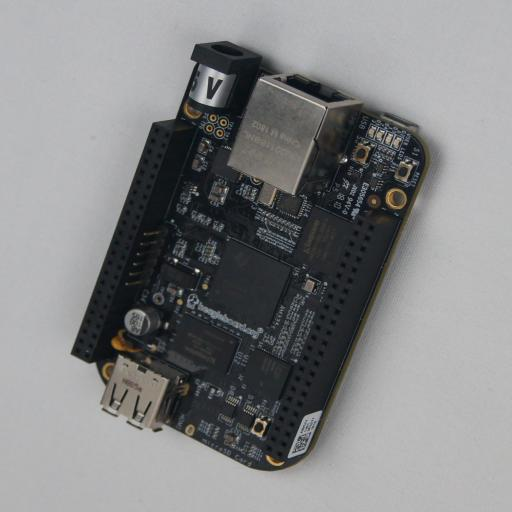Beaglebone Black: (71, 41, 437, 471)
